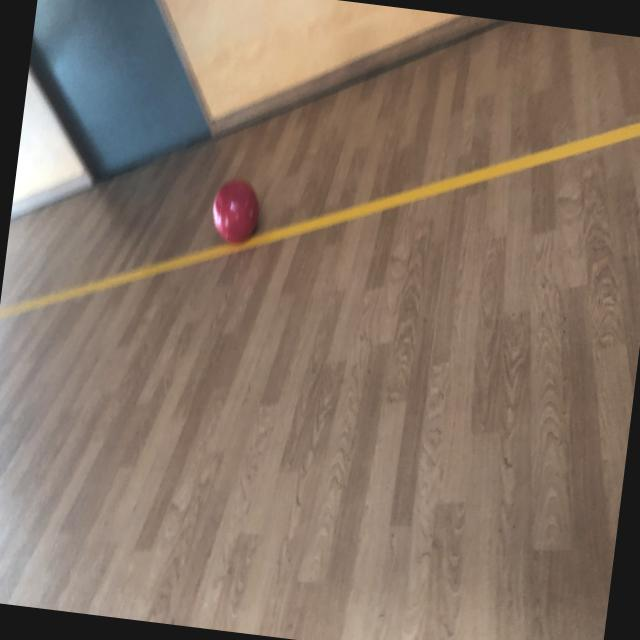red_ball: (208, 175, 264, 246)
